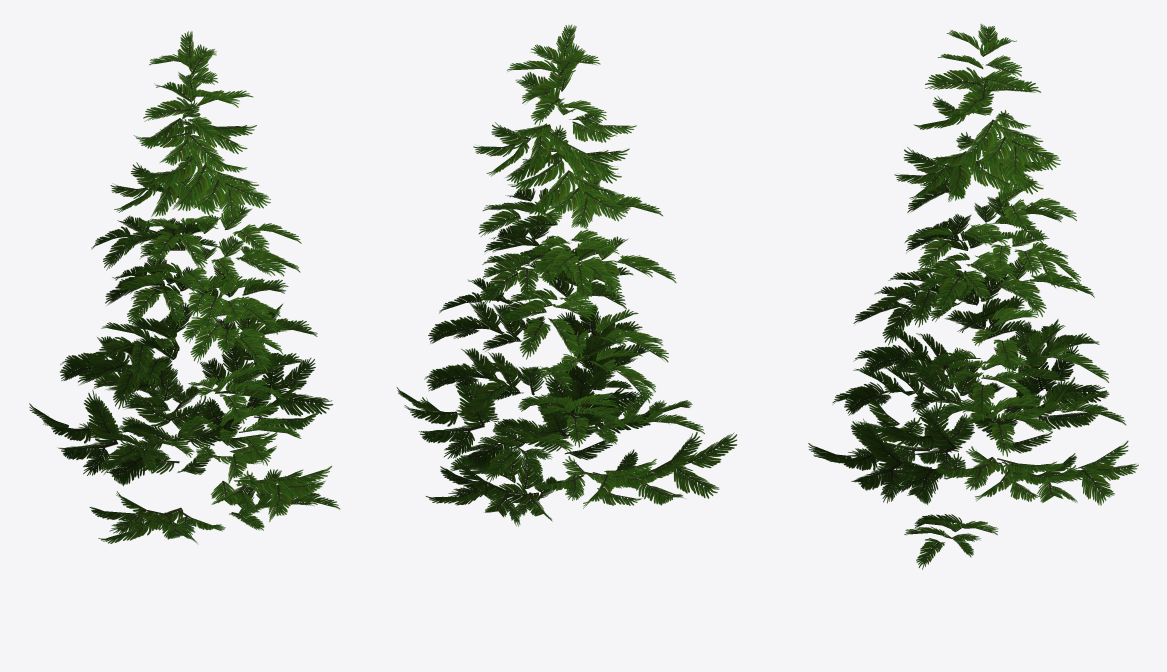
File: alp_Env_Pine_03.glb
The picture shows the model from 3 angles, left to right: view 1: azimuth 30°, elevation 25°; view 2: azimuth 150°, elevation 25°; view 3: azimuth 270°, elevation 25°; orthographic projection.
Parts seen in each view (by area): view 1: SM_Env_Pine_03_LOD0; view 2: SM_Env_Pine_03_LOD0; view 3: SM_Env_Pine_03_LOD0.
Boxes of the visible parts, <box> form: SM_Env_Pine_03_LOD0: <box>29,31,340,544</box>; SM_Env_Pine_03_LOD0: <box>396,24,736,526</box>; SM_Env_Pine_03_LOD0: <box>808,23,1138,569</box>.
Bounding box in the file's own units: 3.38 × 6.74 × 3.51.
1 material, 1 textured.
